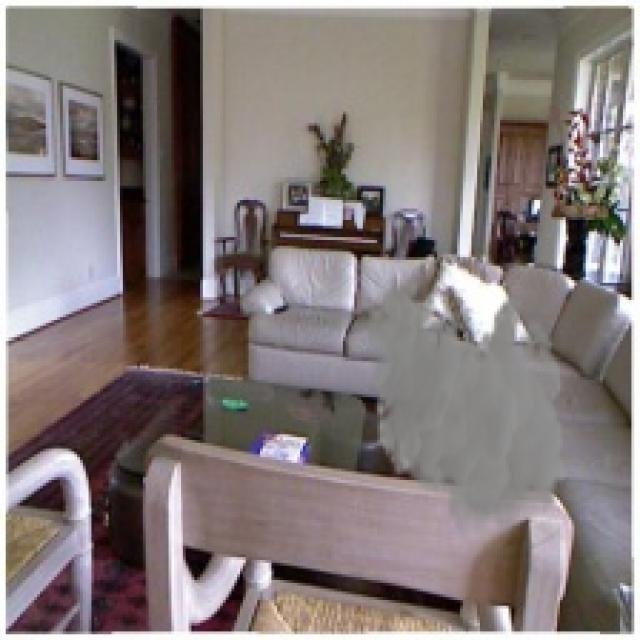smoke: (366, 277, 568, 549)
